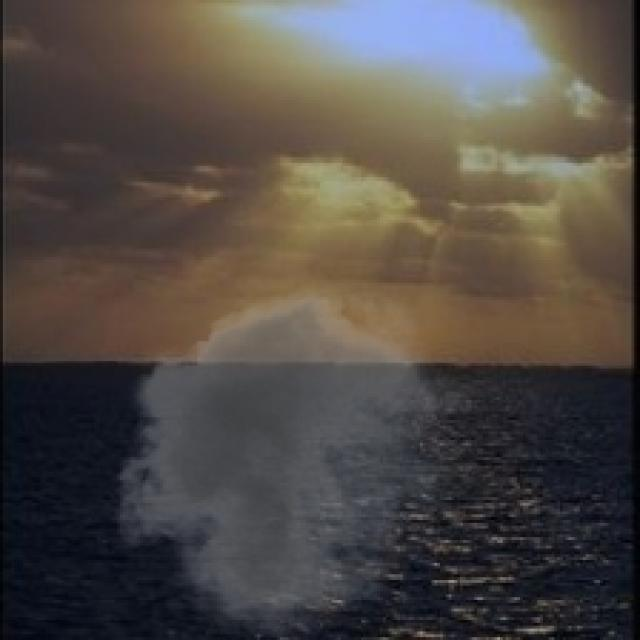smoke: (97, 272, 480, 637)
